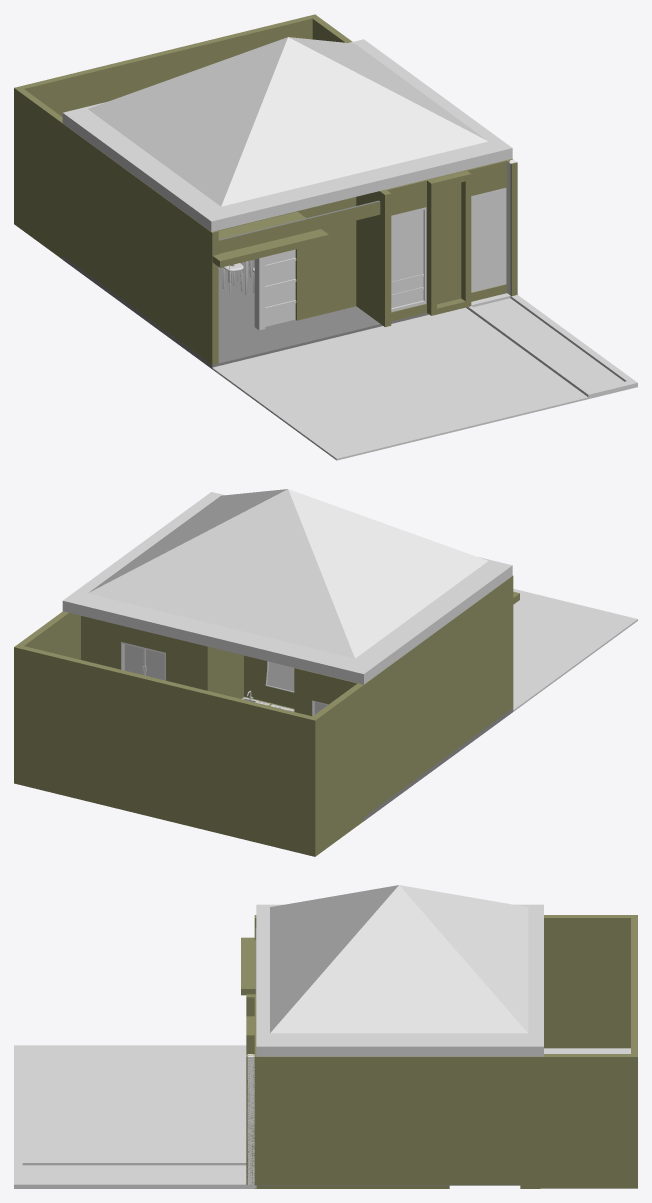
File: midtownpark.FBX
The picture shows the model from 3 angles, top to bottom: view 1: azimuth 30°, elevation 25°; view 2: azimuth 150°, elevation 25°; view 3: azimuth 270°, elevation 25°; orthographic projection. The views are drawn at different scales.
Parts seen in each view (by area): view 1: DINDING, Plane006, Box154, Rectangle082, Box017, Object010, FloorDepan, Box119, Box117, Box110, Box111, Box118; view 2: DINDING, Plane006, Rectangle082, Box154, Box103, Box100, Box101; view 3: DINDING, Plane006, Box154, Rectangle082, Box017, Object010, Rectangle068, Box155.
Part boxes in pixels (x1,y1,x2,y2): DINDING: [14, 14, 512, 368]; Plane006: [88, 37, 488, 206]; Box154: [212, 307, 637, 460]; Rectangle082: [62, 39, 512, 231]; Box017: [466, 293, 637, 398]; Object010: [380, 160, 517, 327]; FloorDepan: [188, 306, 380, 365]; Box119: [471, 189, 505, 291]; Box117: [391, 210, 423, 308]; Box110: [265, 249, 295, 326]; Box111: [254, 257, 296, 330]; Box118: [391, 207, 426, 311]; DINDING: [14, 575, 519, 856]; Plane006: [88, 489, 487, 658]; Rectangle082: [62, 492, 512, 684]; Box154: [513, 588, 637, 711]; Box103: [267, 661, 294, 691]; Box100: [124, 644, 143, 674]; Box101: [145, 649, 164, 680]; DINDING: [241, 915, 637, 1188]; Plane006: [270, 885, 528, 1033]; Box154: [14, 1045, 254, 1188]; Rectangle082: [256, 904, 543, 1056]; Box017: [14, 1161, 256, 1188]; Object010: [246, 994, 254, 1184]; Rectangle068: [247, 1054, 254, 1184]; Box155: [544, 1048, 630, 1053].
Bounding box in the file's own units: 282 × 215 × 523.
